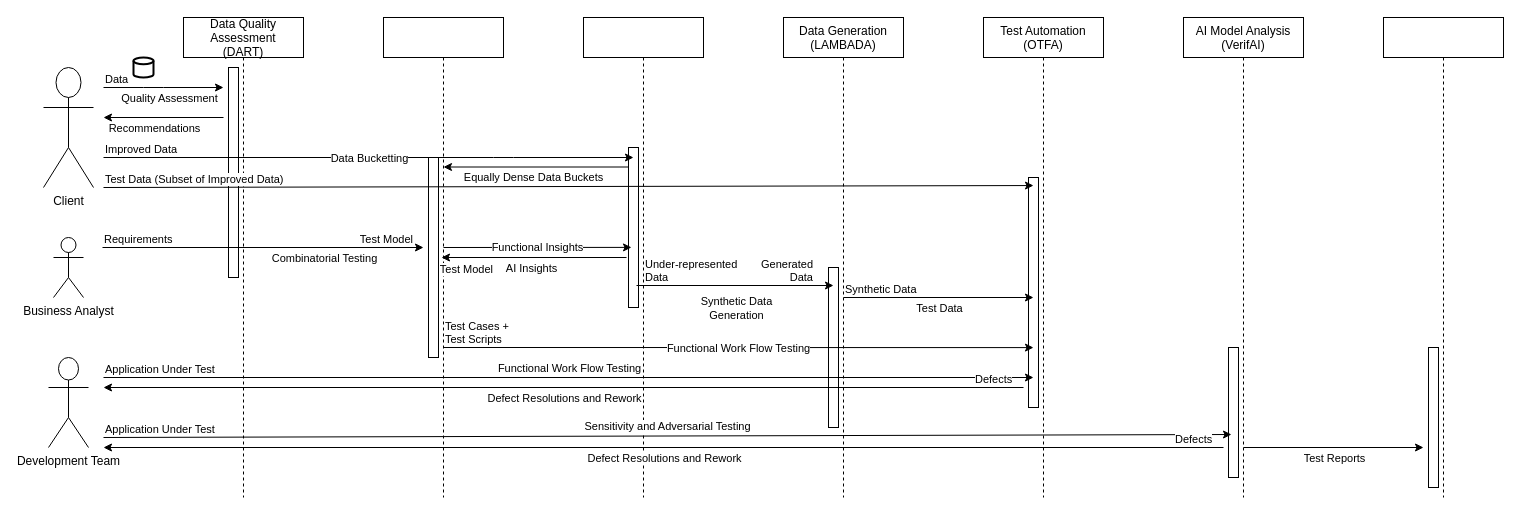
The diagram is 1521 pixels wide and 515 high, and some of its shapes have lost their labels. The box of each missing label's shape, as (x1, y1, x2, y2) in pixels:
Data Split Analytics (FREA): (582, 16, 704, 498)
Test Modelling (CTD): (382, 16, 504, 498)
Test Results Analytics (FREA): (1382, 16, 1504, 498)
